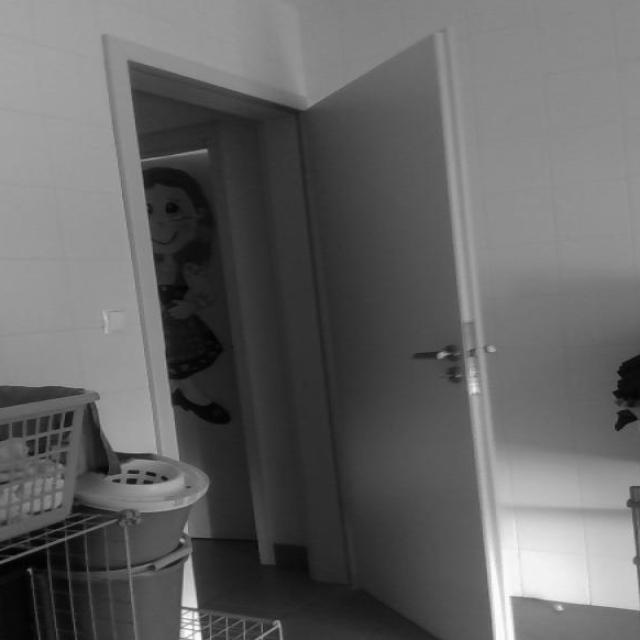Door: (296, 28, 513, 638)
